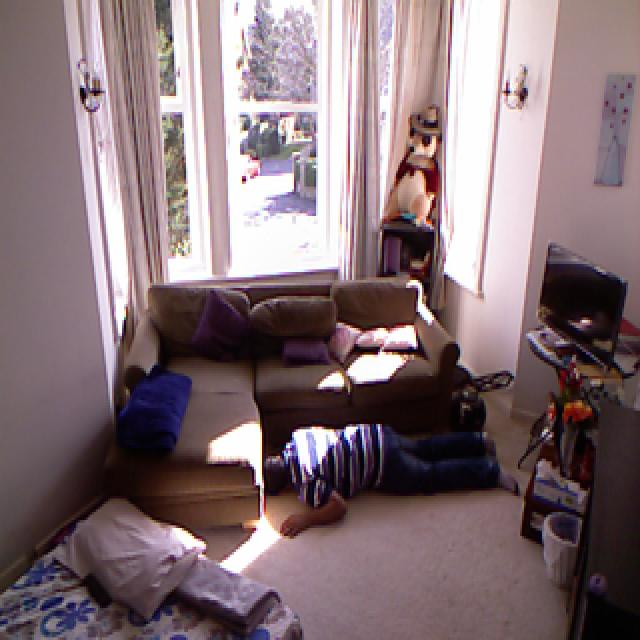lying: (256, 423, 521, 537)
